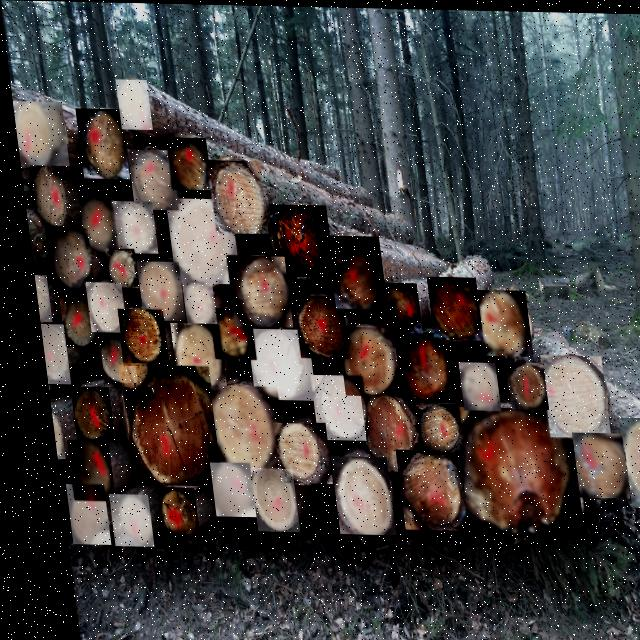wood-log: (442, 405, 571, 537), (110, 364, 211, 486), (200, 385, 276, 474), (160, 197, 234, 284), (384, 448, 456, 529), (531, 353, 600, 436), (319, 455, 382, 534), (351, 394, 413, 473), (238, 328, 306, 400), (220, 254, 285, 326), (264, 203, 328, 276), (203, 159, 263, 233), (385, 330, 447, 401), (321, 234, 380, 308), (329, 325, 391, 395), (301, 374, 359, 441), (162, 322, 217, 391), (73, 108, 126, 179), (468, 288, 524, 355), (561, 430, 617, 496), (262, 422, 321, 483), (10, 101, 65, 166), (420, 275, 475, 339), (286, 294, 341, 357), (124, 149, 176, 210), (39, 227, 88, 291), (238, 467, 286, 531), (109, 309, 160, 368), (56, 440, 103, 501), (130, 261, 178, 320), (610, 415, 640, 506), (53, 484, 97, 545), (405, 401, 453, 453), (197, 462, 243, 516), (60, 386, 104, 441), (201, 307, 247, 359), (25, 169, 65, 228), (368, 281, 414, 332), (96, 494, 140, 547), (108, 201, 152, 253), (163, 137, 207, 189), (75, 197, 114, 251), (144, 487, 186, 537), (78, 282, 119, 333), (449, 360, 491, 409), (51, 296, 91, 347), (497, 360, 539, 408), (90, 333, 129, 383), (114, 79, 150, 129), (32, 324, 61, 384), (175, 282, 209, 323), (99, 248, 131, 288), (28, 275, 44, 322), (41, 413, 54, 459)
